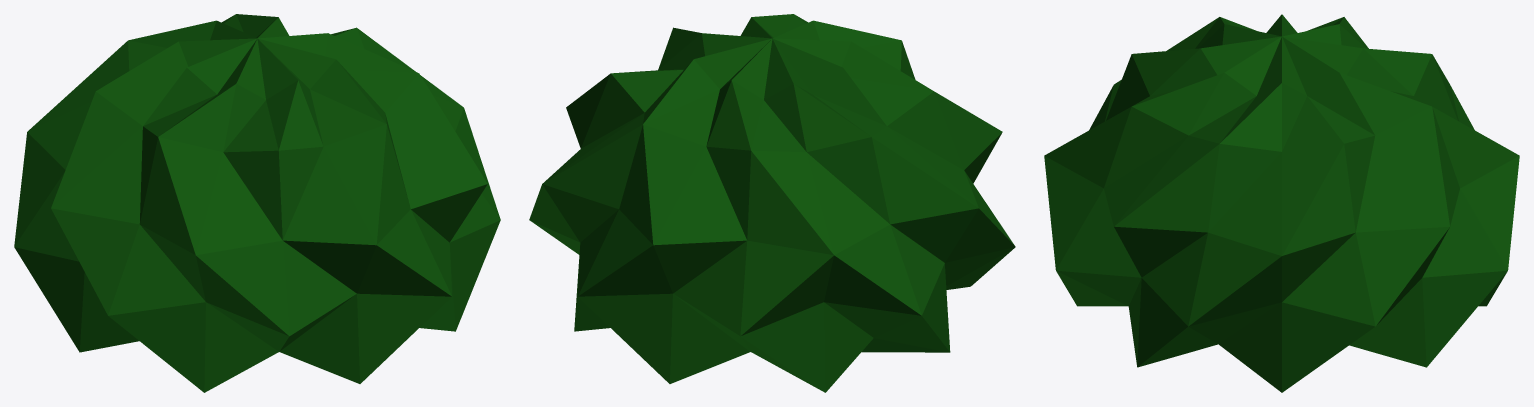
Rendered from Bush.fbx.
3 views of the same model, side by side, from view 1: azimuth 30°, elevation 25°; view 2: azimuth 150°, elevation 25°; view 3: azimuth 270°, elevation 25° (orthographic).
Parts seen in each view (by area): view 1: Bush; view 2: Bush; view 3: Bush.
Boxes of the visible parts, x1,y1,x2,y2 form: Bush: (14,14,500,392); Bush: (529,14,1015,392); Bush: (1044,14,1519,392).
Size of the model in its own units: 161 by 161 by 101.
